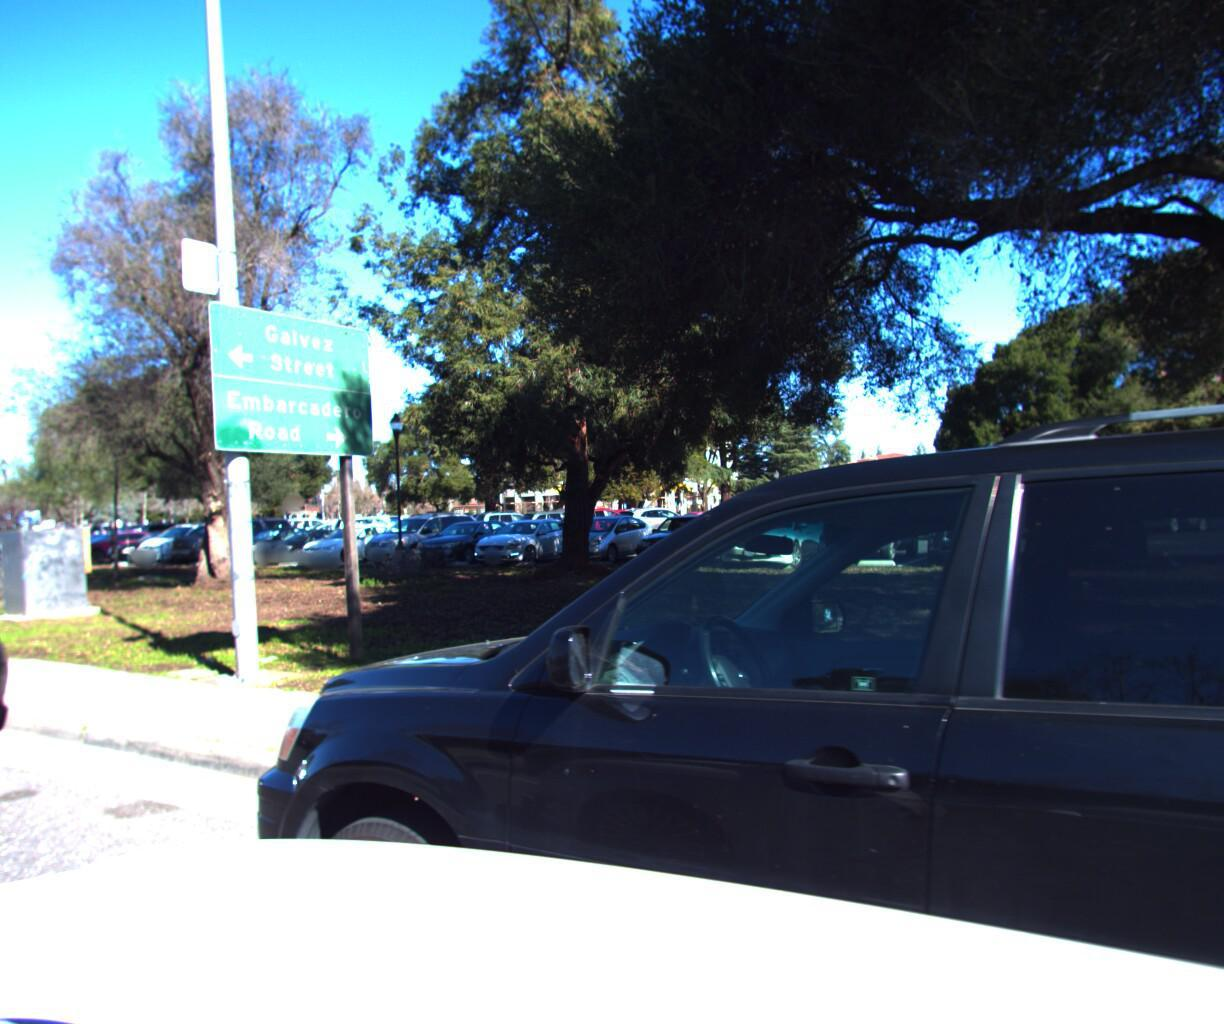car: (129, 0, 1224, 1024), (0, 538, 30, 788)
